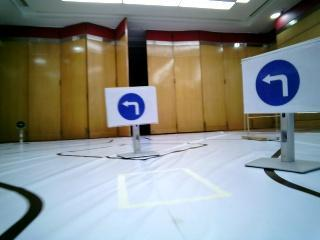left: (245, 59, 316, 114), (111, 89, 156, 121)
